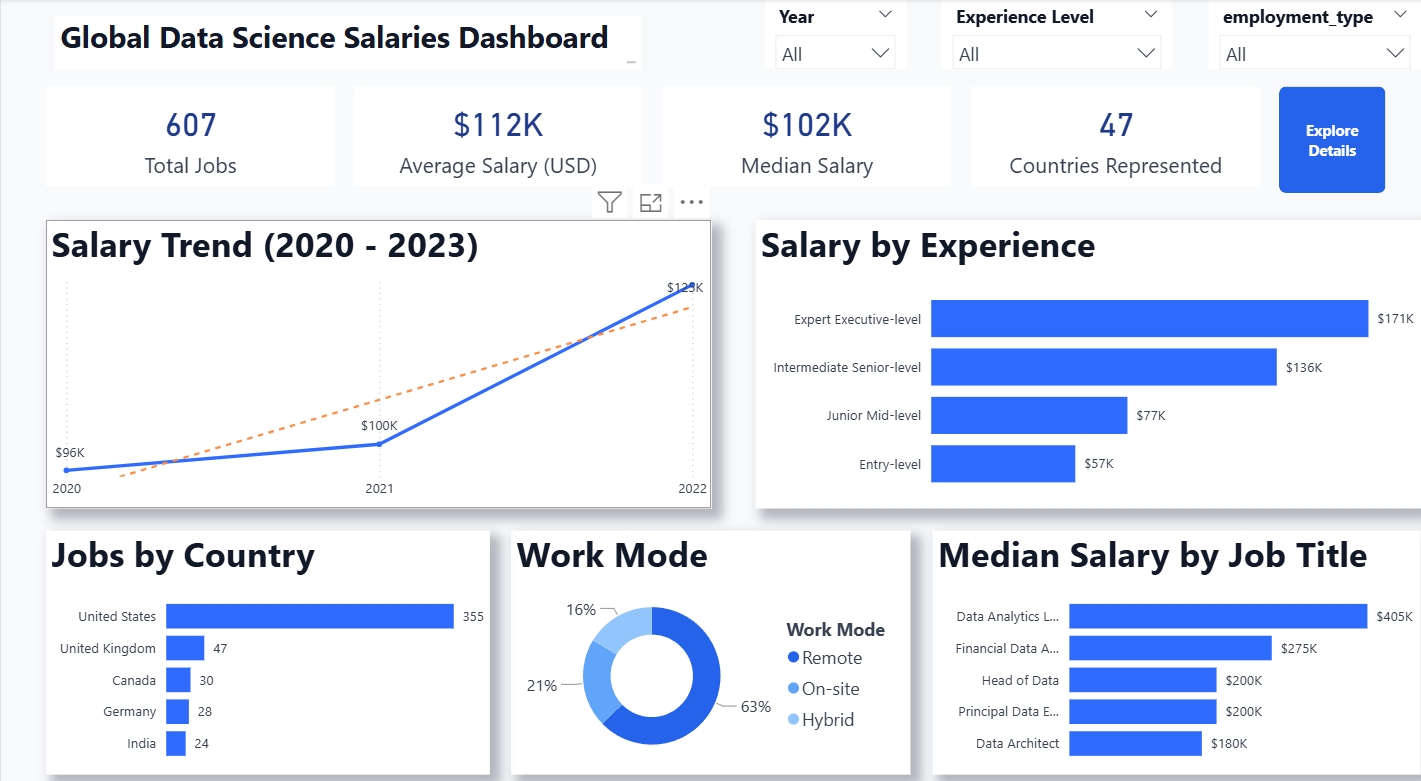

Layout of this report page (visuals, bound fields, positions):
{"tool":"powerbi","page":{"name":"Global Data","canvas":[1280,720],"ordinal":0},"visuals":[{"type":"card","fields":{"Values":["Table of Measures.Avg Salary"]},"box":[318,80,260,90],"z":0},{"type":"card","fields":{"Values":["Table of Measures.Median Salary"]},"box":[596,80,260,90],"z":1000},{"type":"card","fields":{"Values":["Table of Measures.Countries"]},"box":[874,80,260,90],"z":2000},{"type":"lineChart","fields":{"Category":["Calendar (Whole Number).Year"],"Y":["Table of Measures.Avg Salary"]},"box":[40,200,600,260],"z":3000},{"type":"barChart","title":"Salary by Experience","fields":{"Category":["Data.experience_level"],"Y":["Table of Measures.Median Salary"]},"box":[680,200,600,260],"z":4000},{"type":"donutChart","title":"Work Mode","fields":{"Category":["Data.Work_mode"],"Y":["Table of Measures.Total Jobs"]},"box":[460,480,360,220],"z":5000},{"type":"clusteredBarChart","title":"Jobs by Country","fields":{"Category":["dim_country.Country"],"Y":["Table of Measures.Total Jobs"]},"box":[40,480,400,220],"z":6000},{"type":"barChart","title":"Median Salary by Job Title","fields":{"Y":["Table of Measures.Median Salary"],"Category":["Data.job_title"]},"box":[840,480,440,220],"z":7000},{"type":"card","fields":{"Values":["Table of Measures.Total Jobs"]},"box":[40,80,260,90],"z":8000},{"type":"slicer","fields":{"Values":["Calendar (Whole Number).Year"]},"box":[688,0,128,64],"z":9000},{"type":"slicer","fields":{"Values":["Data.experience_level"]},"box":[848,0,208,64],"z":10000},{"type":"slicer","fields":{"Values":["Data.employment_type"]},"box":[1088,0,192,64],"z":11000},{"type":"textbox","title":"Global Data Science Salaries Dashboard","box":[48,16,528,48],"z":12000},{"type":"actionButton","title":"Salary Deep Analysis","box":[1152,80,96,96],"z":13000}]}

Visuals, with their boxes in screenshot pixels (x1, y1, x2, y2), scaled from the page's 1280x720 canvas onto the 1421x781 screenshot:
card - Table of Measures.Avg Salary: bbox=[353, 87, 642, 184]
card - Table of Measures.Median Salary: bbox=[662, 87, 950, 184]
card - Table of Measures.Countries: bbox=[970, 87, 1259, 184]
lineChart - Calendar (Whole Number).Year x Table of Measures.Avg Salary: bbox=[44, 217, 710, 499]
"Salary by Experience" barChart: bbox=[755, 217, 1420, 499]
"Work Mode" donutChart: bbox=[511, 521, 910, 759]
"Jobs by Country" clusteredBarChart: bbox=[44, 521, 488, 759]
"Median Salary by Job Title" barChart: bbox=[933, 521, 1420, 759]
card - Table of Measures.Total Jobs: bbox=[44, 87, 333, 184]
slicer - Calendar (Whole Number).Year: bbox=[764, 0, 906, 69]
slicer - Data.experience_level: bbox=[941, 0, 1172, 69]
slicer - Data.employment_type: bbox=[1208, 0, 1420, 69]
"Global Data Science Salaries Dashboard" textbox: bbox=[53, 17, 639, 69]
"Salary Deep Analysis" actionButton: bbox=[1279, 87, 1385, 191]
